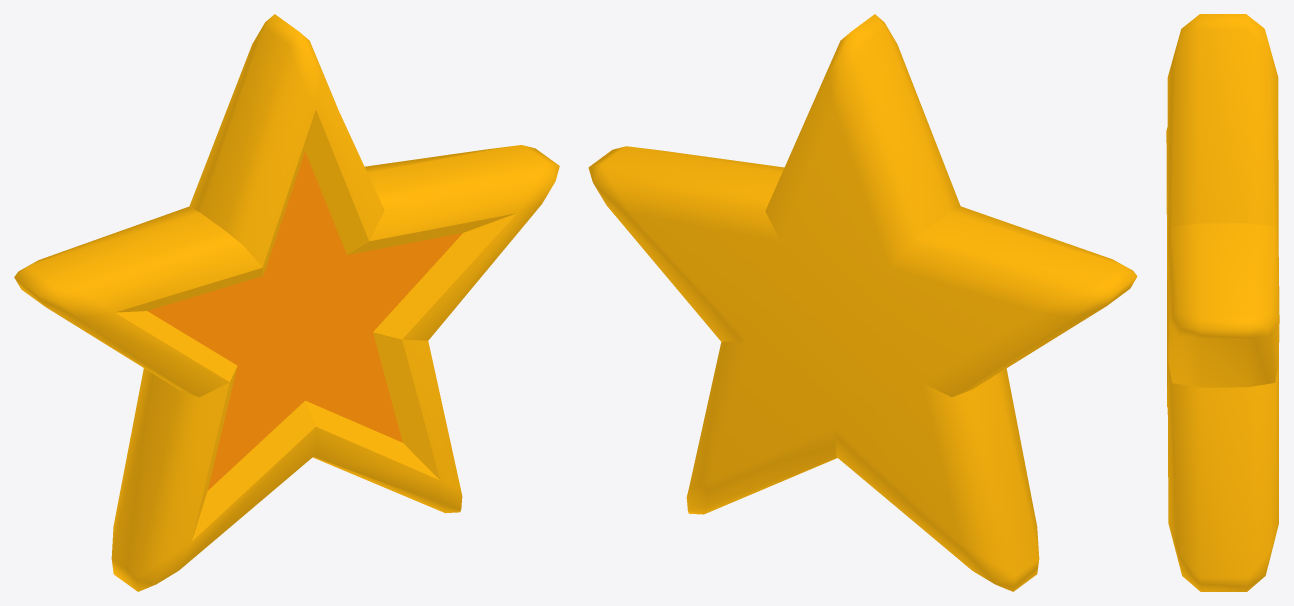
The model's file is star_001.glb.
3 renders of one model, left to right at view 1: azimuth 30°, elevation 25°; view 2: azimuth 150°, elevation 25°; view 3: azimuth 270°, elevation 25°, orthographic. The views are drawn at different scales.
Parts seen in each view (by area): view 1: star_001; view 2: star_001; view 3: star_001.
Boxes of the visible parts, left/top/right/bottom form: star_001: left=14, top=14, right=559, bottom=591; star_001: left=588, top=14, right=1137, bottom=591; star_001: left=1166, top=14, right=1279, bottom=591.
Size of the model in its own units: 1.28 by 1.22 by 0.2495.
1 material, 1 textured.
